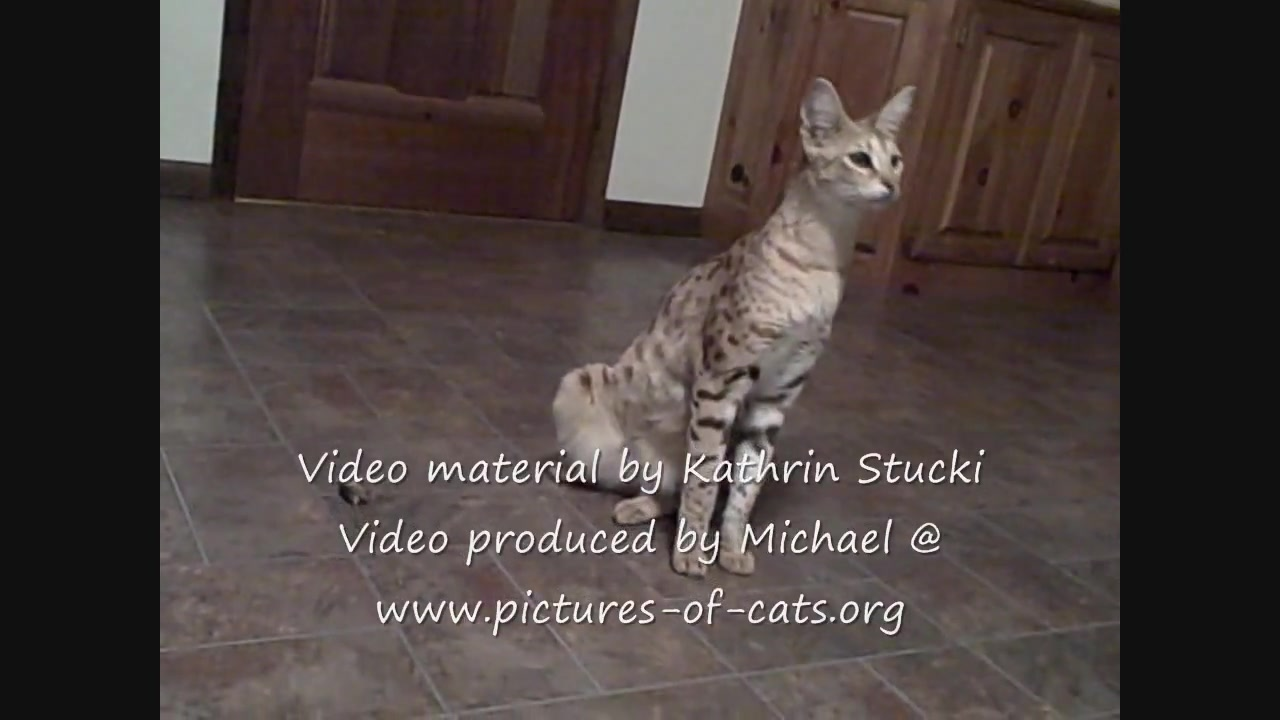cat: (548, 75, 927, 578)
